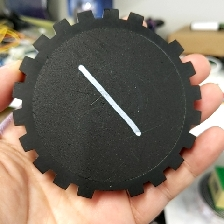gear: (10, 7, 203, 200)
missing: (126, 10, 186, 58), (76, 181, 146, 199)
